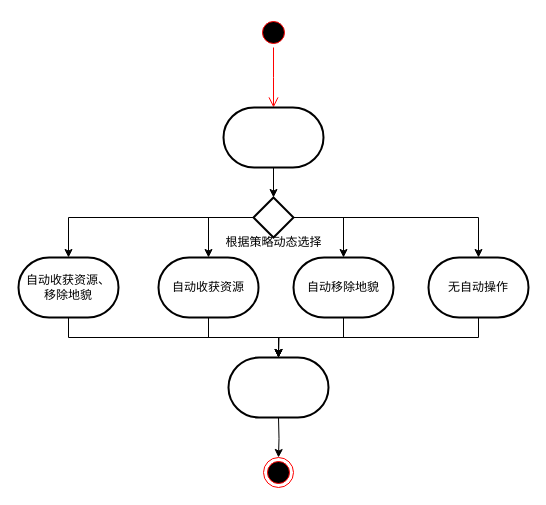
Image size: 546x505. Some labels were removed from this diagram. The centre of each missing label's shape, as x and y in pixels:
"建造区域" belongs at [278,387].
"执行建造 区域命令" belongs at [273,137].
